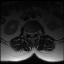CCS_normal: (31, 30, 32, 37)
LFS_normal: (35, 30, 36, 35)
LLS_normal: (33, 30, 34, 36)
RFS_normal: (27, 30, 29, 36)
RLS_normal: (29, 30, 31, 36)
